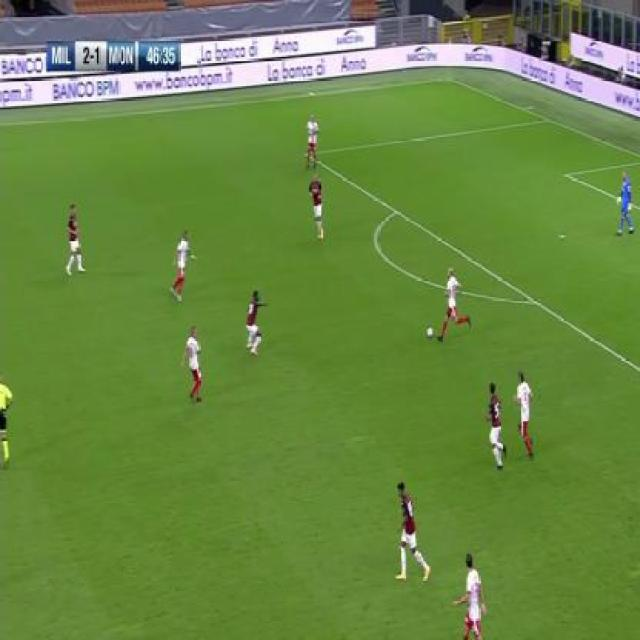ball: (426, 323, 435, 339)
player: (393, 481, 432, 586), (454, 550, 490, 639), (438, 264, 471, 343), (482, 382, 510, 473), (168, 229, 197, 303), (513, 369, 536, 460), (181, 323, 204, 403), (63, 201, 86, 278), (243, 289, 268, 357), (614, 168, 636, 237), (0, 372, 14, 471), (308, 173, 327, 242), (303, 112, 320, 171)
